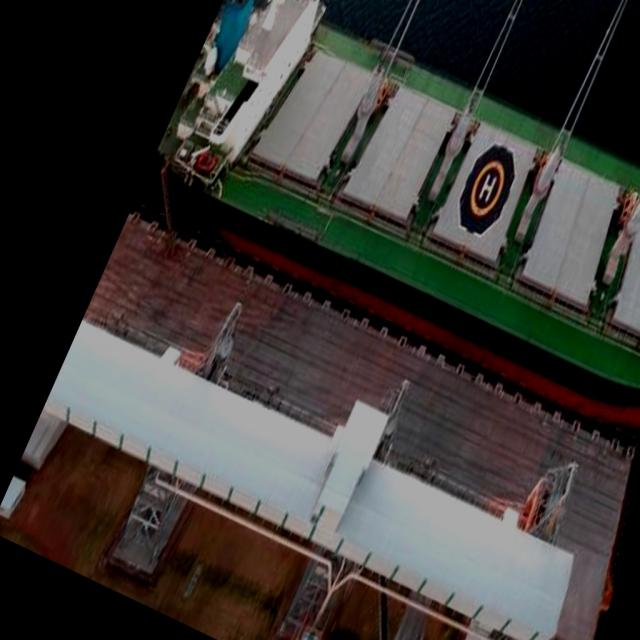helipad: (468, 159, 504, 216)
